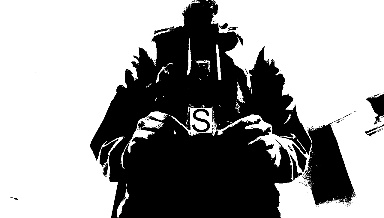S: (188, 106, 212, 132)
